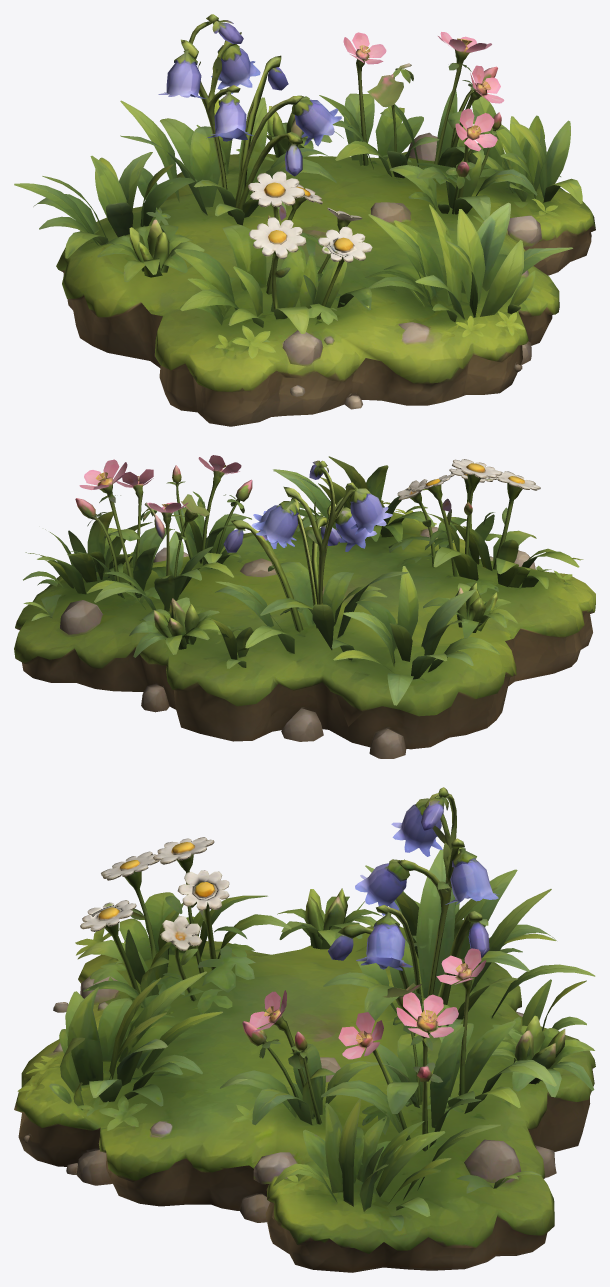
The model's file is flowers.glb.
3 renders of one model, top to bottom at view 1: azimuth 30°, elevation 25°; view 2: azimuth 150°, elevation 25°; view 3: azimuth 270°, elevation 25°, orthographic. The views are drawn at different scales.
Parts seen in each view (by area): view 1: tripo_node_56c2ef1e-7b26-4e81-905f-88d588bbebba; view 2: tripo_node_56c2ef1e-7b26-4e81-905f-88d588bbebba; view 3: tripo_node_56c2ef1e-7b26-4e81-905f-88d588bbebba.
Boxes of the visible parts, x1,y1,x2,y2 form: tripo_node_56c2ef1e-7b26-4e81-905f-88d588bbebba: (14,14,595,426); tripo_node_56c2ef1e-7b26-4e81-905f-88d588bbebba: (14,455,595,758); tripo_node_56c2ef1e-7b26-4e81-905f-88d588bbebba: (14,787,595,1272).
Bounding box in the file's own units: 0.9995 × 0.5112 × 0.8813.
1 material, 1 textured.
